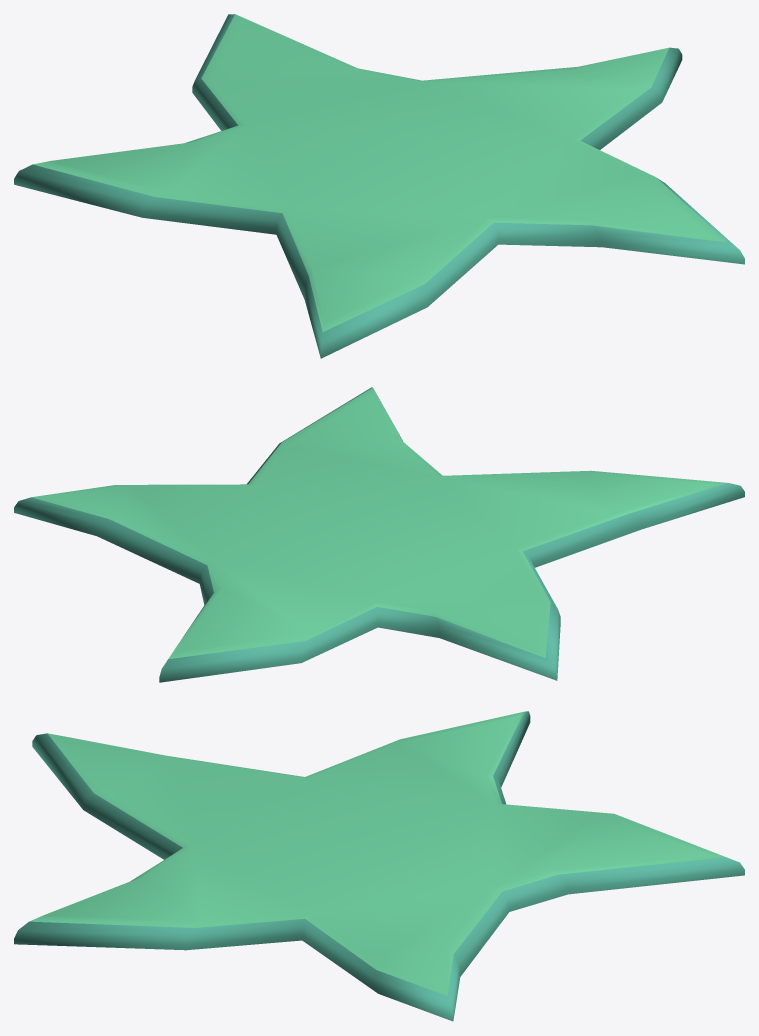
The model's file is estrelamar00.fbx.
The picture shows the model from 3 angles, top to bottom: view 1: azimuth 30°, elevation 25°; view 2: azimuth 150°, elevation 25°; view 3: azimuth 270°, elevation 25°; orthographic projection. The views are drawn at different scales.
Visible parts, largest first — view 1: estrelamar00; view 2: estrelamar00; view 3: estrelamar00.
Boxes of the visible parts, left/top/right/bottom form: estrelamar00: left=14, top=14, right=744, bottom=358; estrelamar00: left=14, top=387, right=744, bottom=682; estrelamar00: left=14, top=711, right=744, bottom=1021.
Bounding box in the file's own units: 12.52 × 0.3905 × 12.92.
